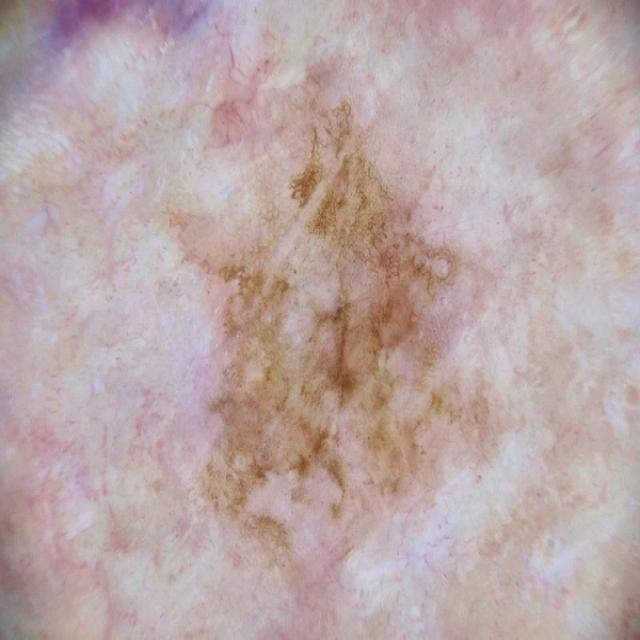Benign-Keratosis-like-Lesions-BKL-: (108, 71, 511, 569)
